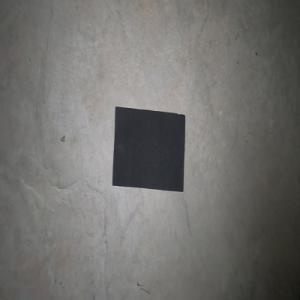PaintChip: (112, 106, 185, 191)
